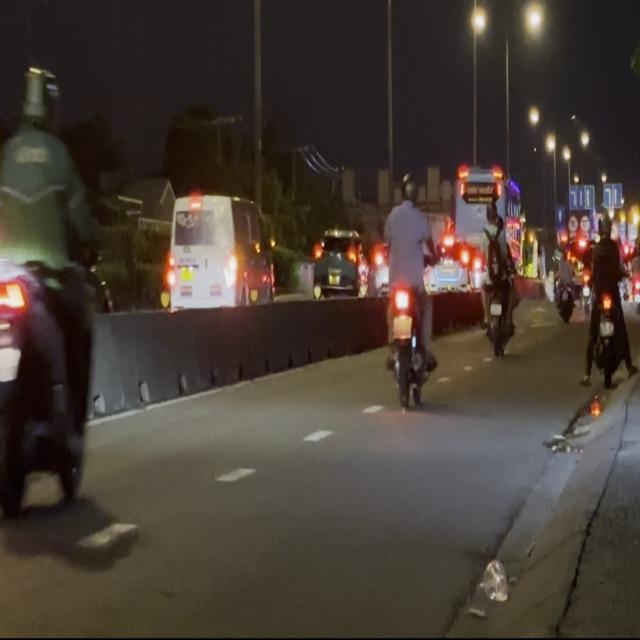helmet: (20, 64, 54, 131)
licenseplate: (0, 46, 104, 512)
nohelmet: (0, 347, 19, 380)
